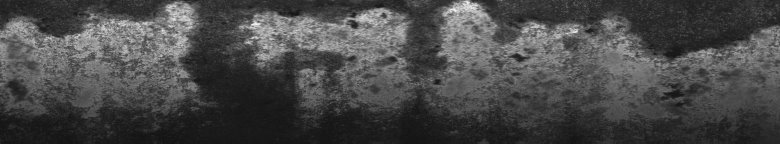kb: (4, 4, 776, 118)
